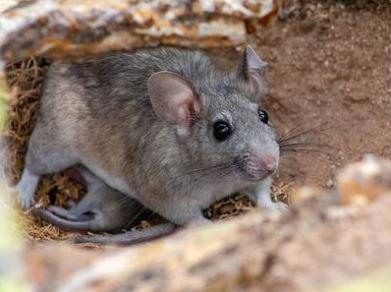rat: (11, 45, 281, 227)
